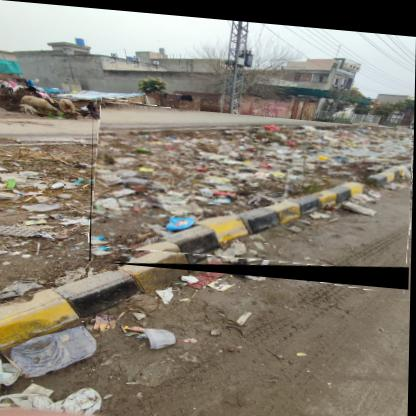Garbage: (92, 101, 414, 284)
